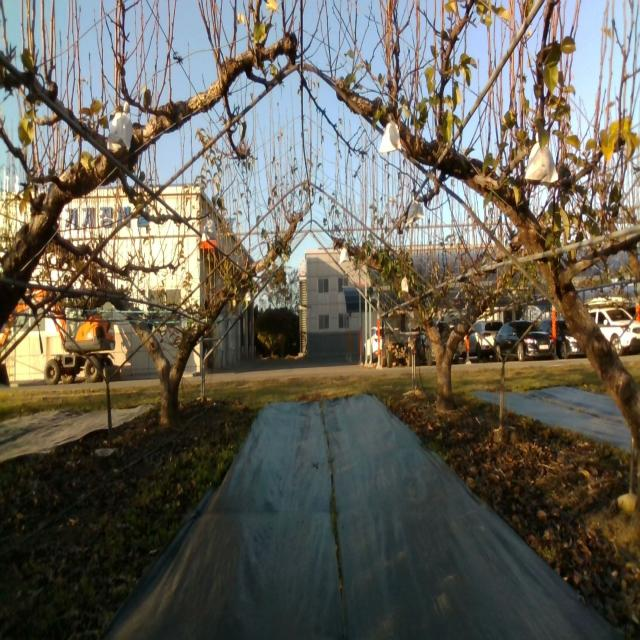pearbags: (525, 140, 559, 185), (107, 102, 133, 154), (379, 119, 402, 153), (406, 194, 425, 226), (201, 218, 219, 243)
